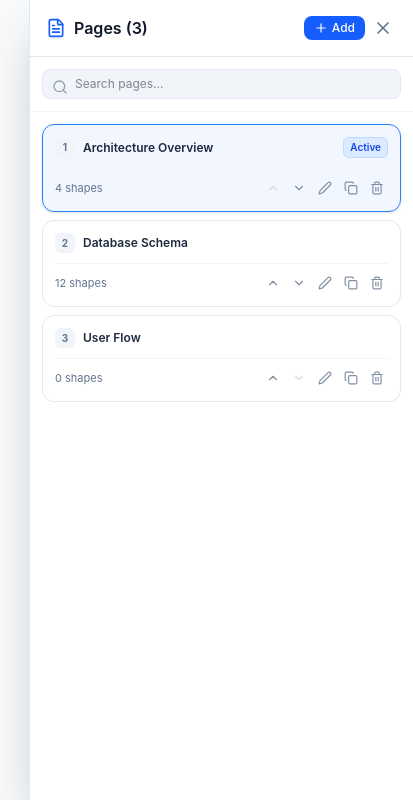
PageSwitcherDrawer › filters pages by search query
Type "Database" into the field with test id "page-search-input".
click(222, 84); type("Database")  # box [42,69,401,99]
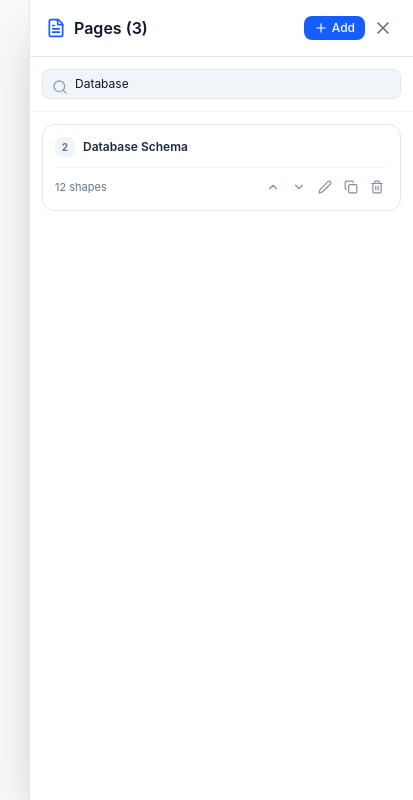
Expected: the text "Database Schema" is shown, [83,139,188,155]
Expected: the text "Architecture Overview" is gone
Expected: the text "User Flow" is gone
